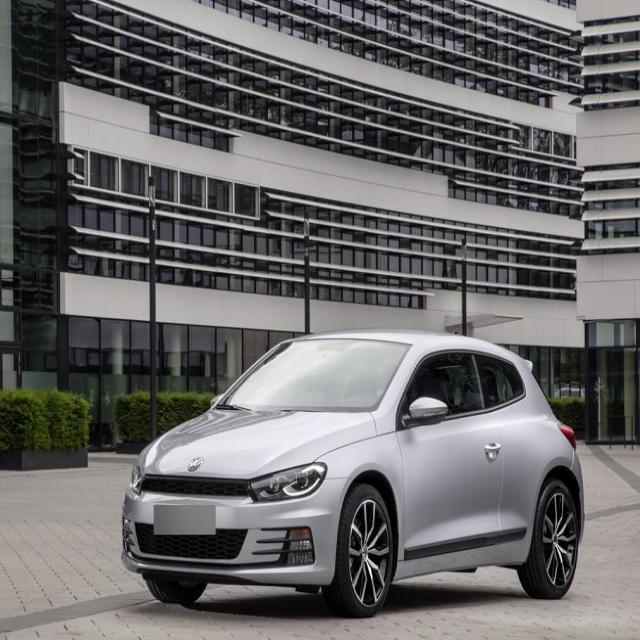back_left_side_light: (557, 420, 576, 452)
front_bumper: (120, 475, 354, 587)
front_glass: (217, 337, 414, 412)
front_left_side_door: (395, 346, 505, 562)
front_left_side_light: (248, 460, 329, 506)
front_left_side_mirror: (399, 397, 448, 429)
front_right_side_light: (130, 455, 145, 497)
wheel: (320, 484, 394, 614), (516, 480, 579, 597)
